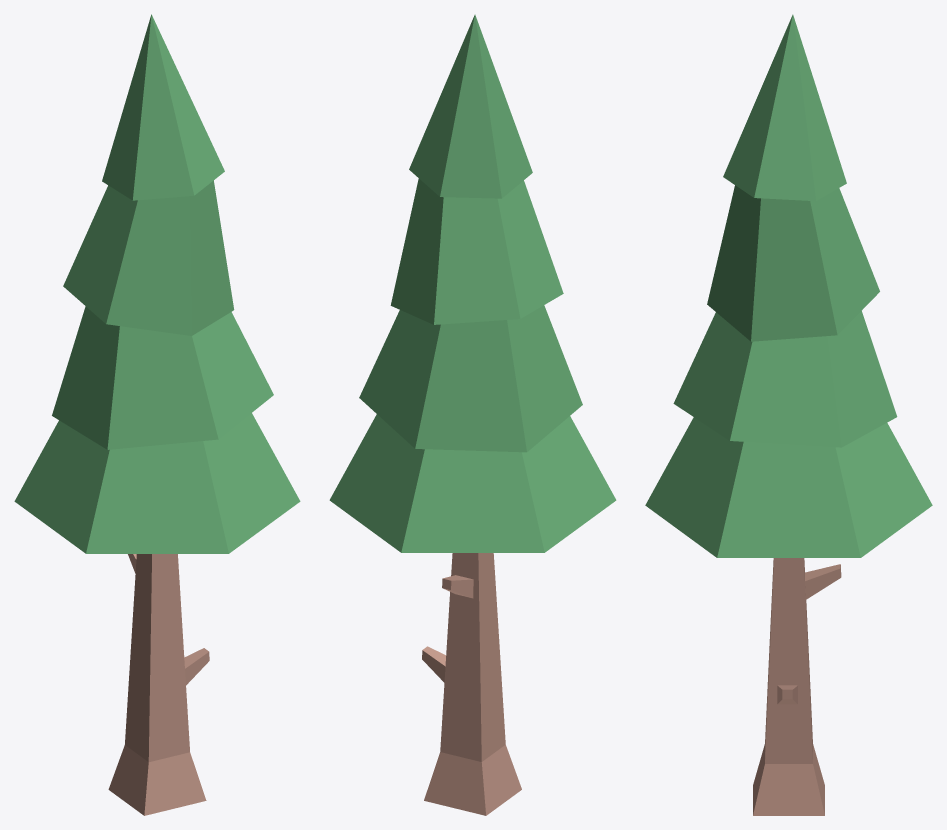
Rendered from nature_tree_pineTallC_detailed.glb.
3 renders of one model, left to right at view 1: azimuth 30°, elevation 25°; view 2: azimuth 150°, elevation 25°; view 3: azimuth 270°, elevation 25°, orthographic.
Visible parts, largest first — view 1: nature_tree_pineTallC_detailed; view 2: nature_tree_pineTallC_detailed; view 3: nature_tree_pineTallC_detailed.
Part boxes in pixels (<box>): nature_tree_pineTallC_detailed: <box>14,14,300,815</box>; nature_tree_pineTallC_detailed: <box>329,14,616,815</box>; nature_tree_pineTallC_detailed: <box>645,14,932,815</box>.
Bounding box in the file's own units: 0.4804 × 1.67 × 0.5547.
